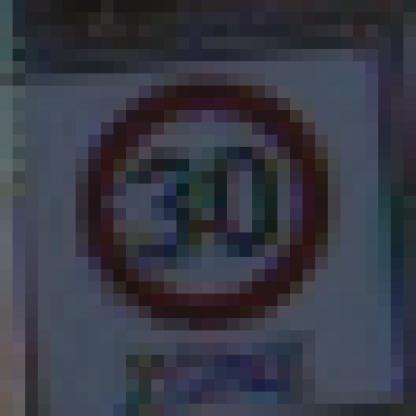Speed Limit 30: (90, 84, 326, 326)
